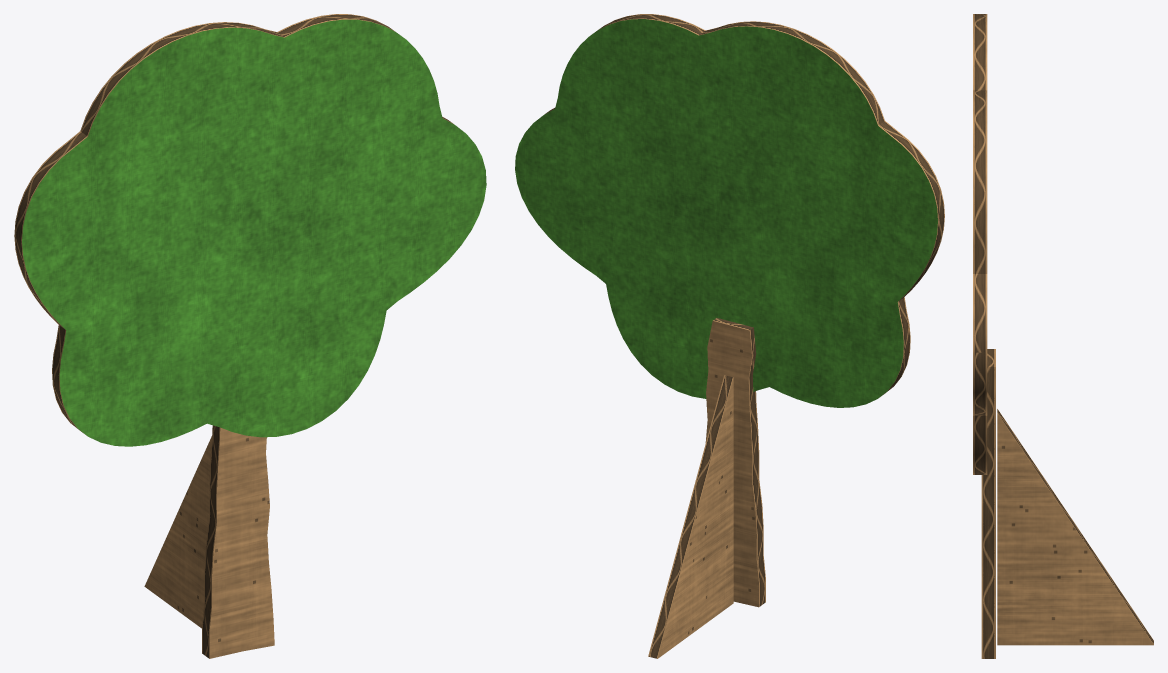
The model's file is tree_cutout_01.gltf.
3 views of the same model, side by side, from view 1: azimuth 30°, elevation 25°; view 2: azimuth 150°, elevation 25°; view 3: azimuth 270°, elevation 25° (orthographic). The views are drawn at different scales.
Parts seen in each view (by area): view 1: tree_cutout_01; view 2: tree_cutout_01; view 3: tree_cutout_01.
Boxes of the visible parts, x1=… form: tree_cutout_01: x1=14, y1=14, x2=486, y2=658; tree_cutout_01: x1=515, y1=14, x2=944, y2=658; tree_cutout_01: x1=973, y1=14, x2=1153, y2=658.
Bounding box in the file's own units: 1.76 × 2.31 × 0.635.
3 materials, 3 textured.
